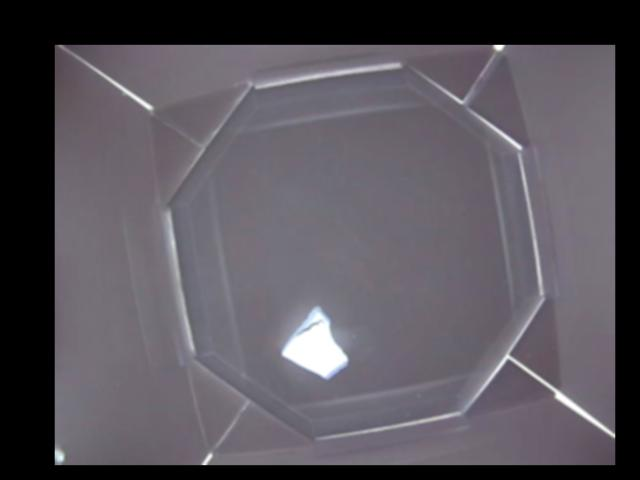China: (279, 305, 350, 382)
